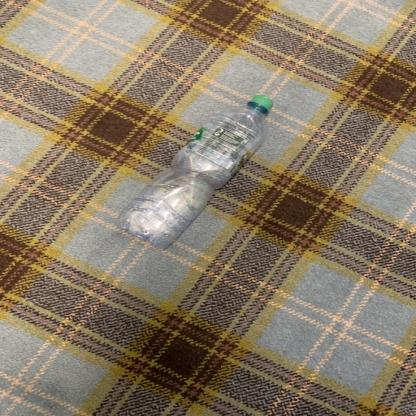trash: (115, 95, 276, 249)
